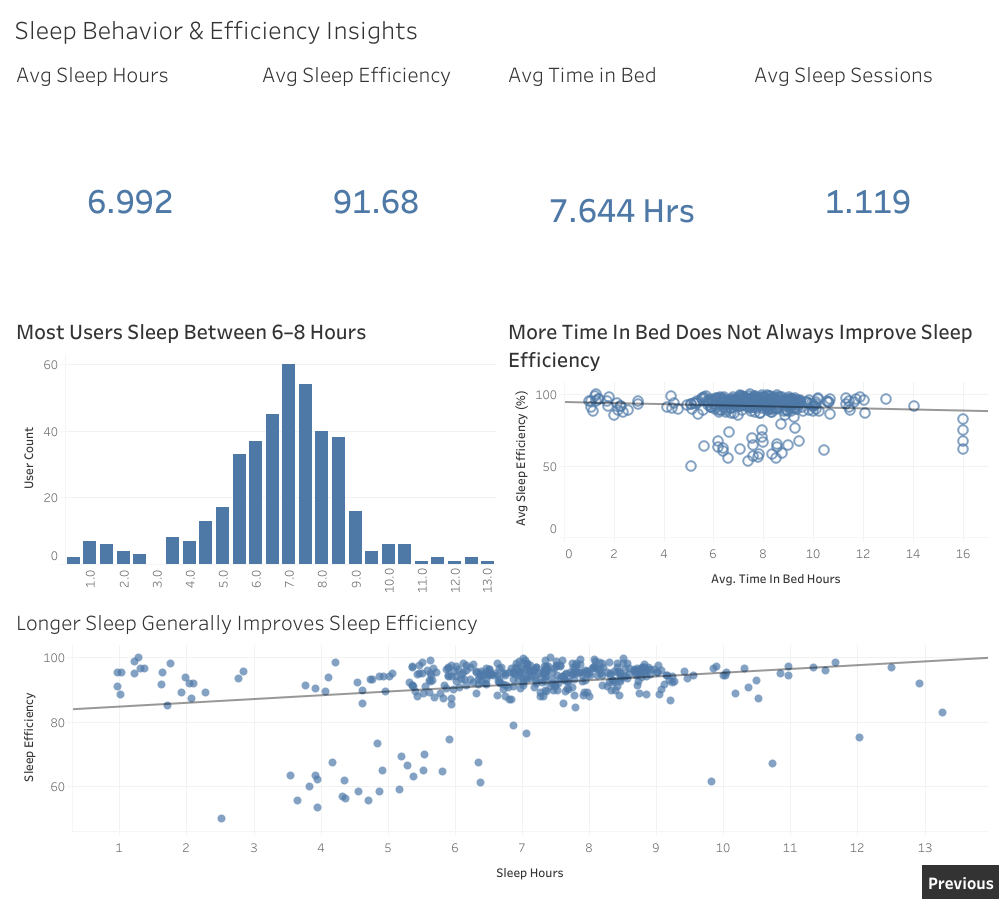

The dashboard page shown, as its layout file describes it:
{"tool":"tableau","page":{"name":"Dashboard 3 - Sleep Behavior & Efficiency Insights","canvas":[1000,900],"ordinal":2},"visuals":[{"type":"title","box":[8,8,984,42]},{"type":"worksheet","title":"KPI - Avg Sleep Hours","mark":"Text","box":[8,50,246,257.2]},{"type":"worksheet","title":"KPI - Avg Sleep Efficiency","mark":"Automatic","box":[254,50,246,257.2]},{"type":"worksheet","title":"KPI - Avg Time in Bed","mark":"Automatic","box":[500,50,246,257.2]},{"type":"worksheet","title":"KPI - Avg Sleep Record","mark":"Automatic","box":[746,50,246,257.2]},{"type":"worksheet","title":"Sleep Duration Distribution","mark":"Automatic","rows":["Id"],"cols":["Sleep Hours (bin)"],"box":[8,307.2,492,290.5]},{"type":"worksheet","title":"Sleep Efficiency vs Time In Bed","mark":"Automatic","rows":["Sleep_Efficiency"],"cols":["Calculation_0014093994258515"],"box":[500,307.2,492,290.5]},{"type":"worksheet","title":"Sleep Hours vs Sleep Efficiency","mark":"Circle","rows":["Sleep_Efficiency"],"cols":["Sleep_Hours"],"box":[8,597.7,984,294.3]},{"type":"dashboard-object","box":[922,865,78,34]}]}

Visuals, with their boxes in screenshot pixels (x1, y1, x2, y2), scaled from the page's 1000x900 canvas onto the 999x899 screenshot:
title: (8, 8, 991, 50)
"KPI - Avg Sleep Hours" worksheet (Text marks): (8, 50, 254, 307)
"KPI - Avg Sleep Efficiency" worksheet: (254, 50, 500, 307)
"KPI - Avg Time in Bed" worksheet: (500, 50, 745, 307)
"KPI - Avg Sleep Record" worksheet: (745, 50, 991, 307)
"Sleep Duration Distribution" worksheet: (8, 307, 500, 597)
"Sleep Efficiency vs Time In Bed" worksheet: (500, 307, 991, 597)
"Sleep Hours vs Sleep Efficiency" worksheet (Circle marks): (8, 597, 991, 891)
dashboard-object: (921, 864, 998, 898)
